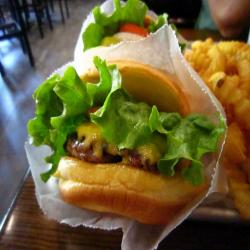burger: (36, 57, 209, 220), (83, 6, 177, 61)
fries: (198, 44, 250, 203)
salad: (46, 83, 205, 161)
